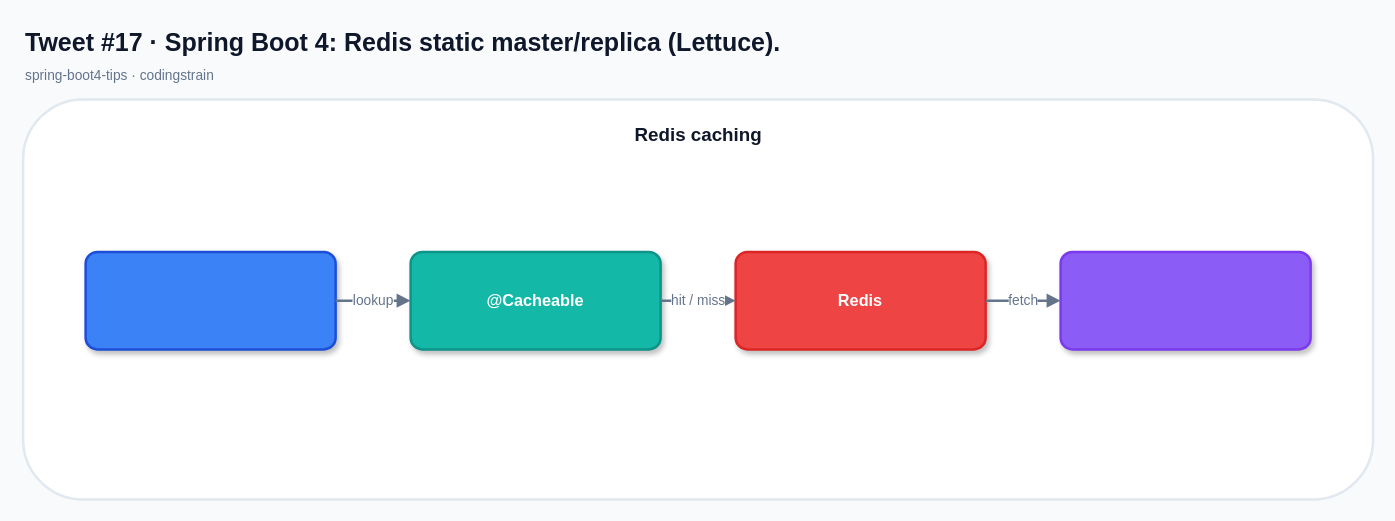
This 1395x521 diagram has some shape labels left out. Here are the shapes that lost their labels. From the top down, the centre of each, then its label:
point (211, 302): Request
point (1186, 302): External API
